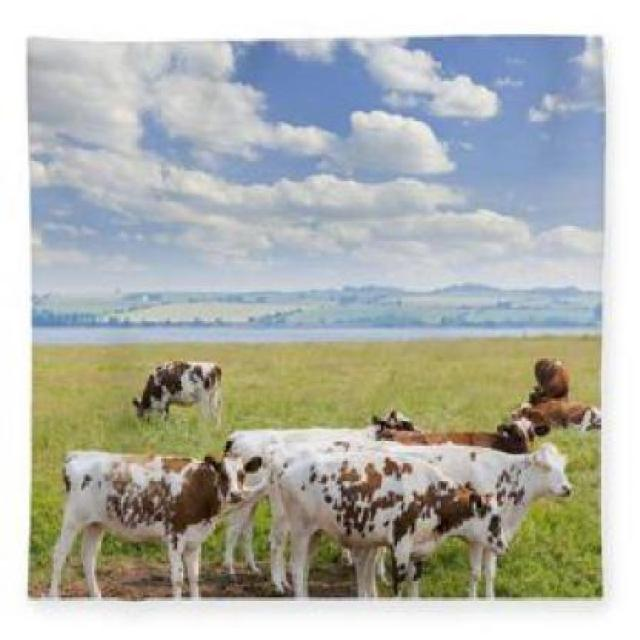Cow: (266, 451, 512, 597), (44, 442, 264, 600), (397, 440, 575, 600), (130, 354, 224, 429)
